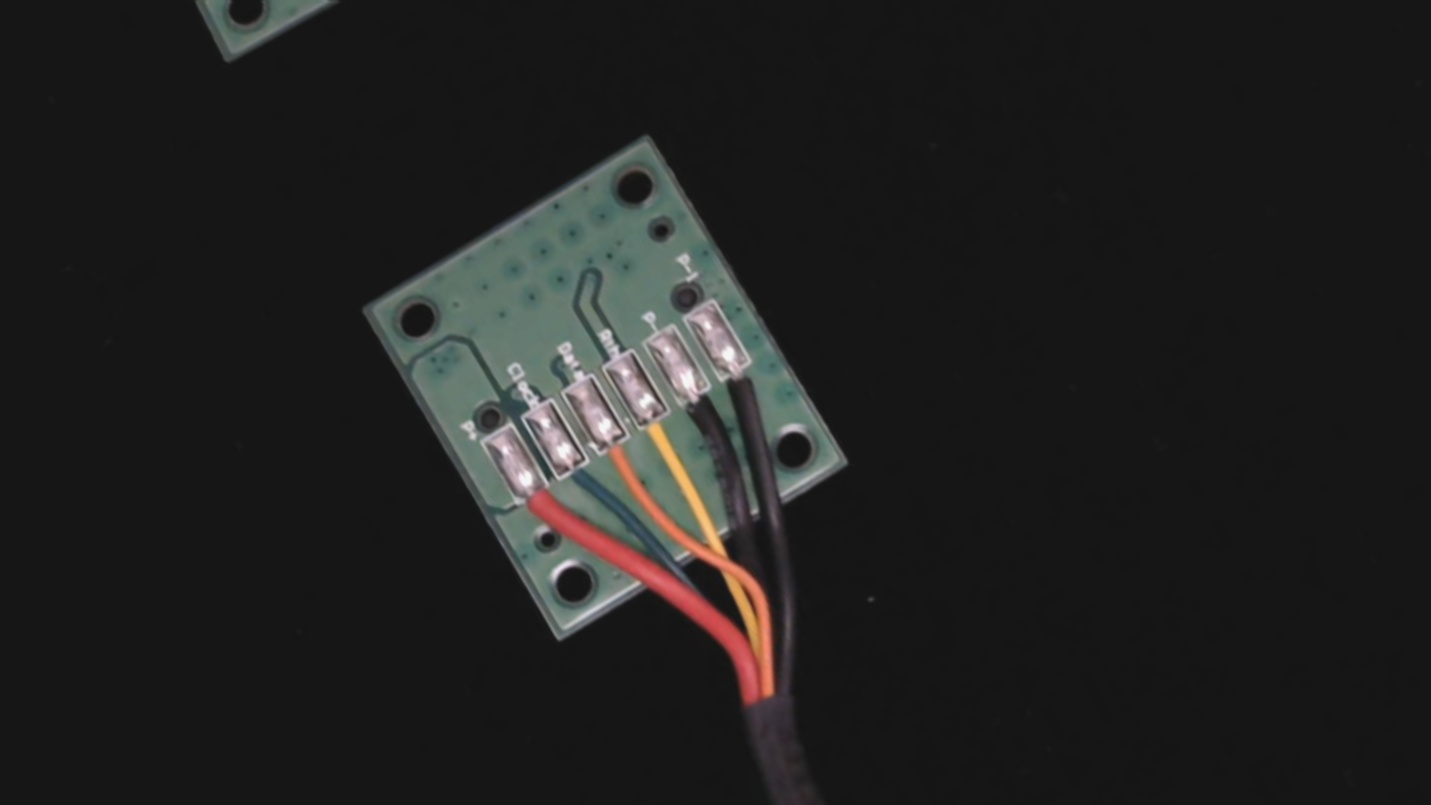Black: (665, 369, 735, 445)
Black1: (706, 346, 780, 429)
Green: (540, 438, 616, 521)
Orange: (581, 417, 659, 504)
Red: (500, 462, 573, 541)
Yellow: (623, 393, 697, 477)
